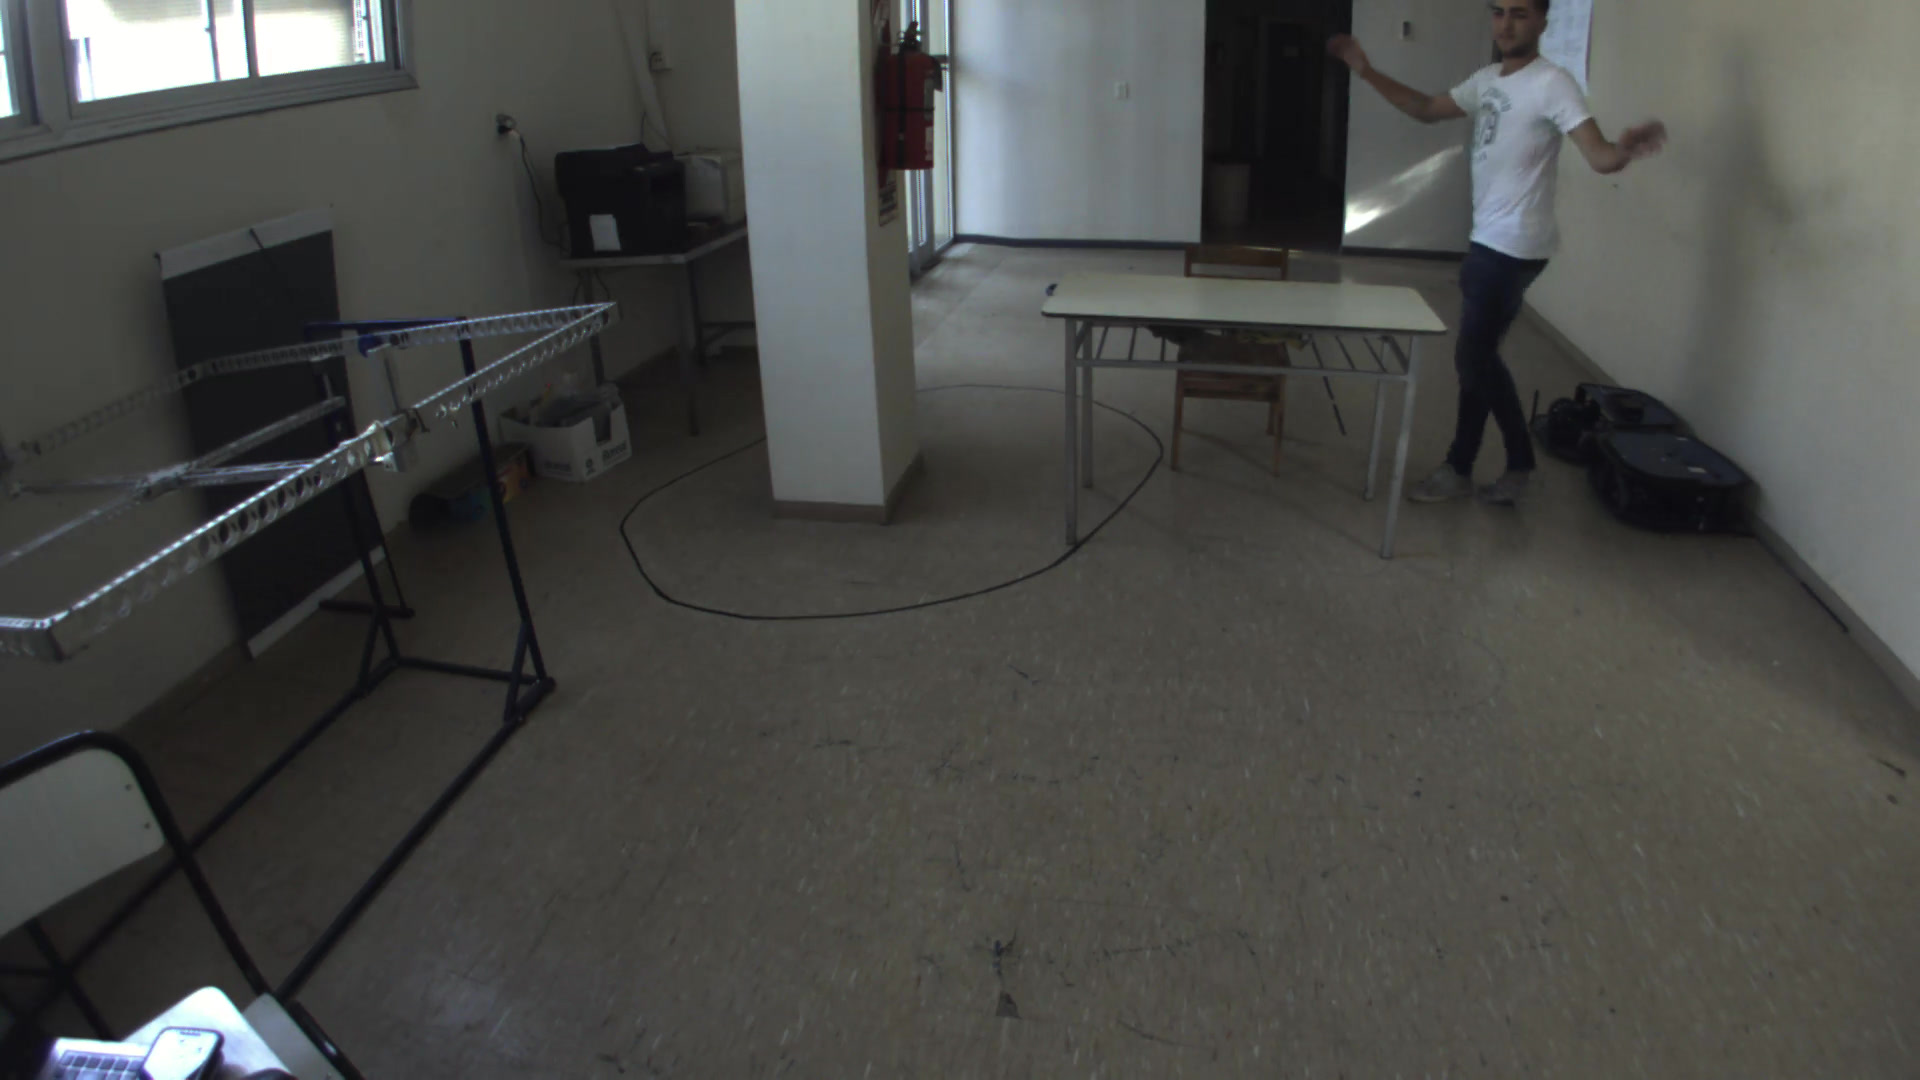hand: (1607, 115, 1675, 160), (1324, 26, 1389, 73)
